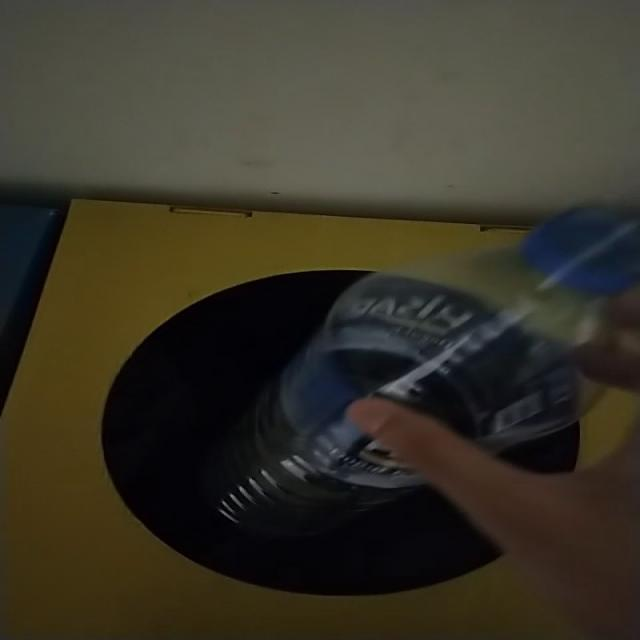Plastic: (104, 217, 637, 596)
